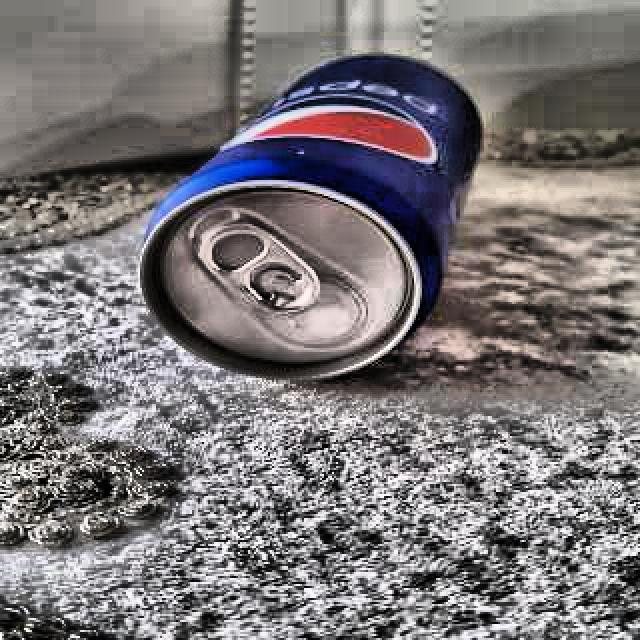metal: (131, 55, 485, 389)
